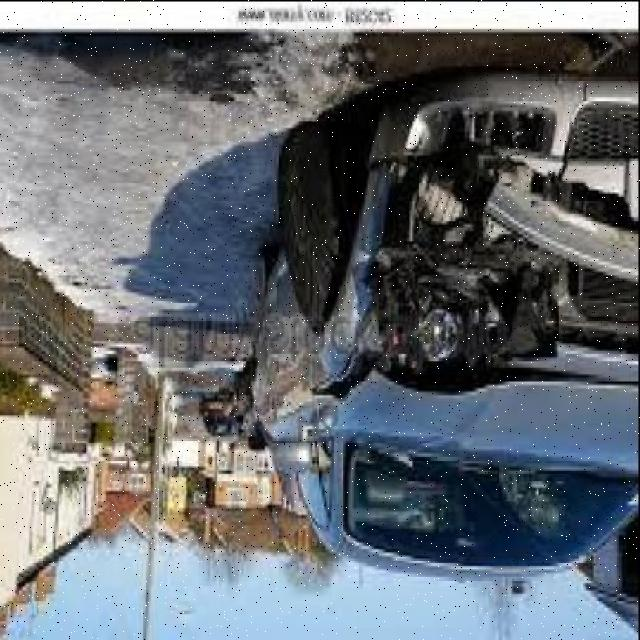damage: (306, 76, 627, 412)
